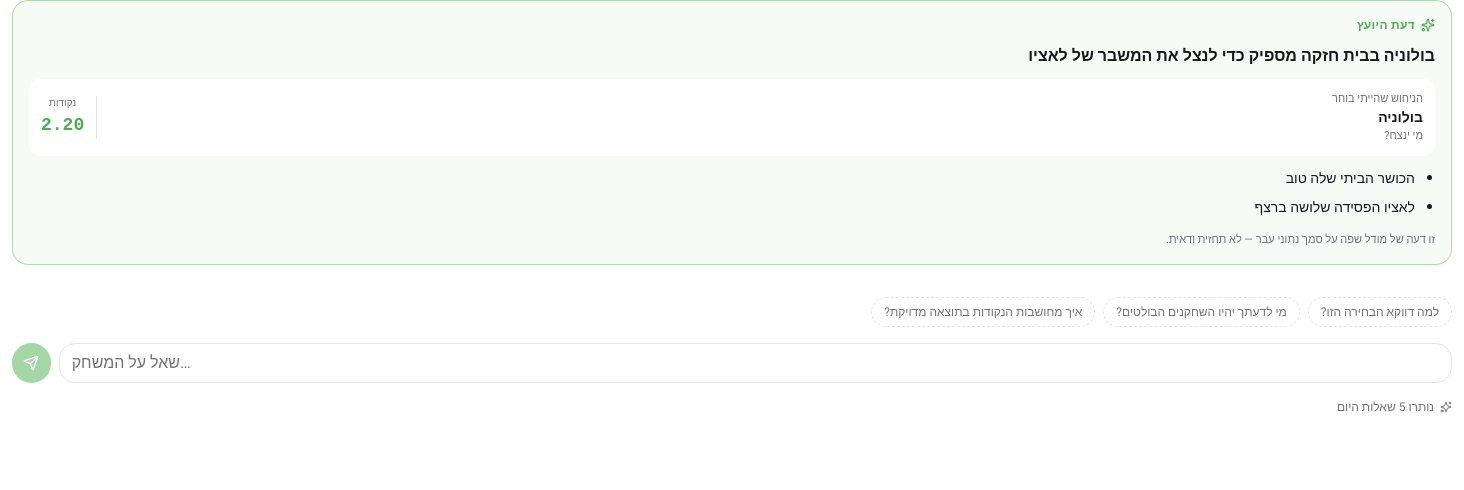
§8.2 יועץ AI › AdvisorPanel › מסיר את השאלה מהמסך כשהקריאה נכשלה
This screenshot has width=1464, height=490.
Check: the text "בולוניה בבית חזקה מספיק כדי לנצל את המשבר של לאציו" is shown, box [1028,44,1435,68]
In the field with placeholder "שאל על המשחק…": (755, 363) [59,343,1452,383], type "למה?"
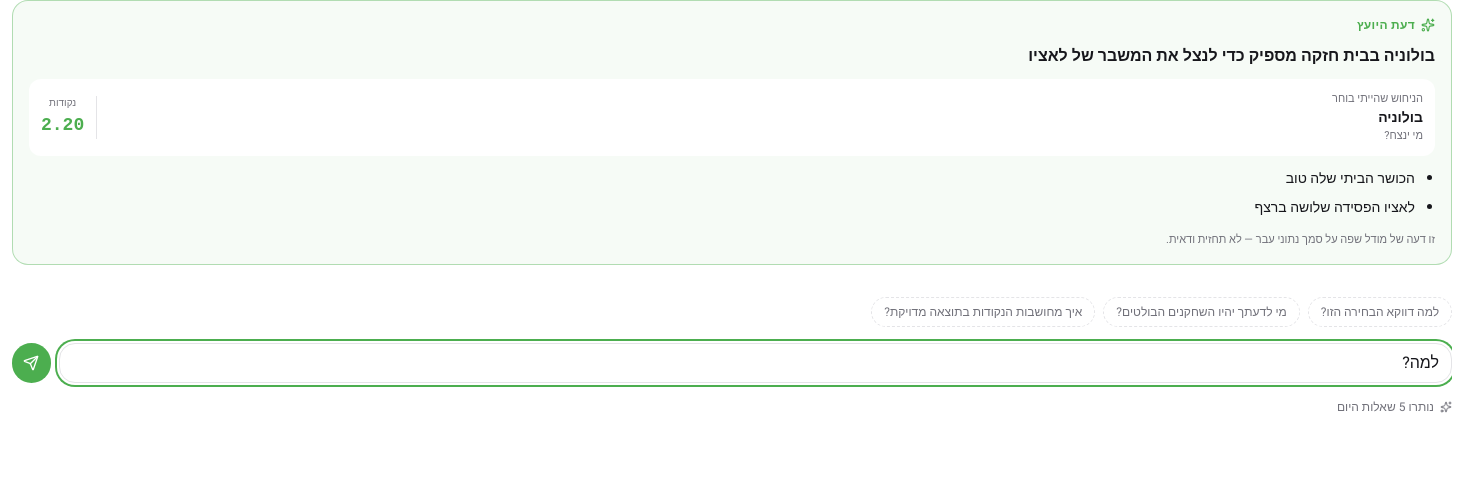
Click the button named "שלח": (31, 363) [12,343,51,383]
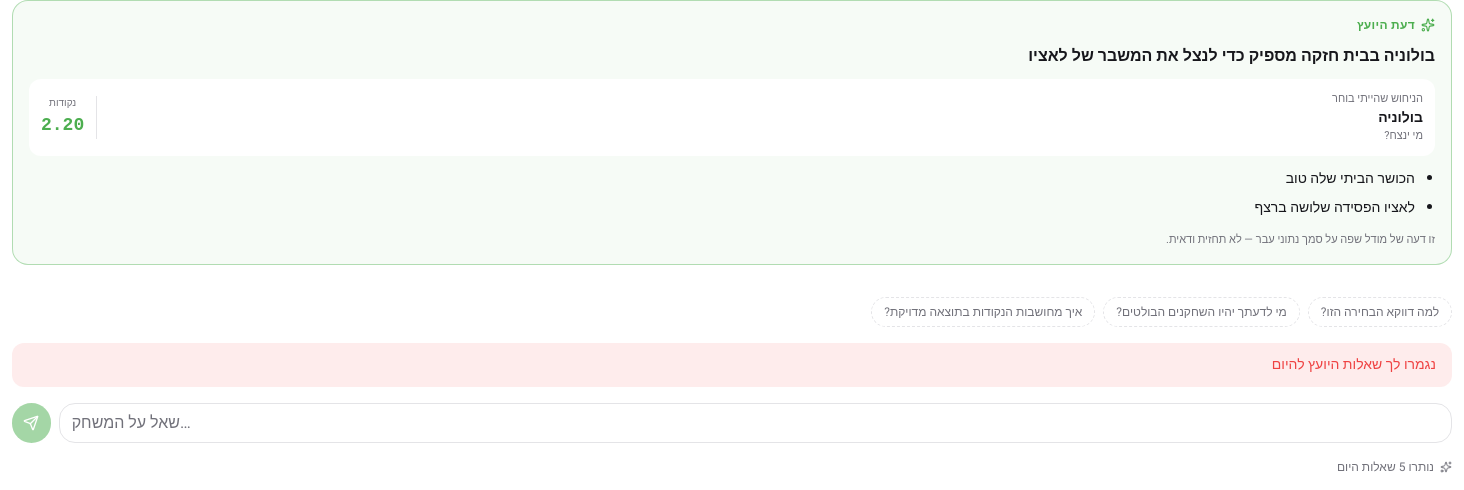
Check: the text "למה?" is not shown
Check: the text "נגמרו לך שאלות היועץ להיום" is shown, box [12,343,1452,387]
